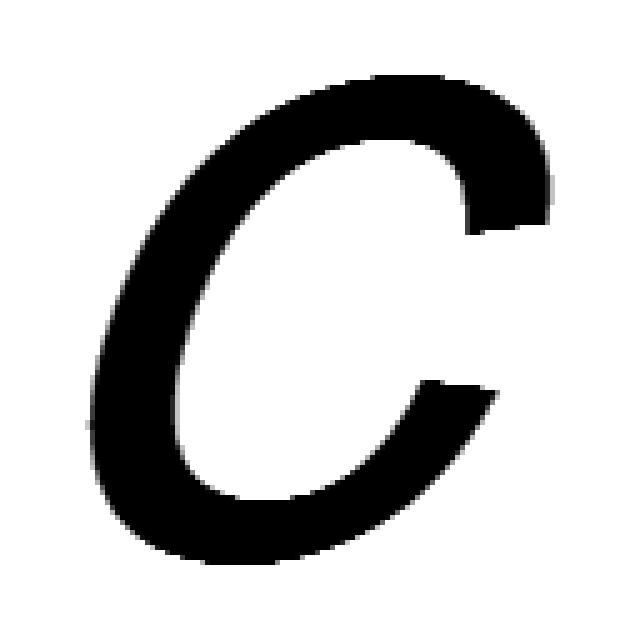C: (95, 75, 550, 565)
